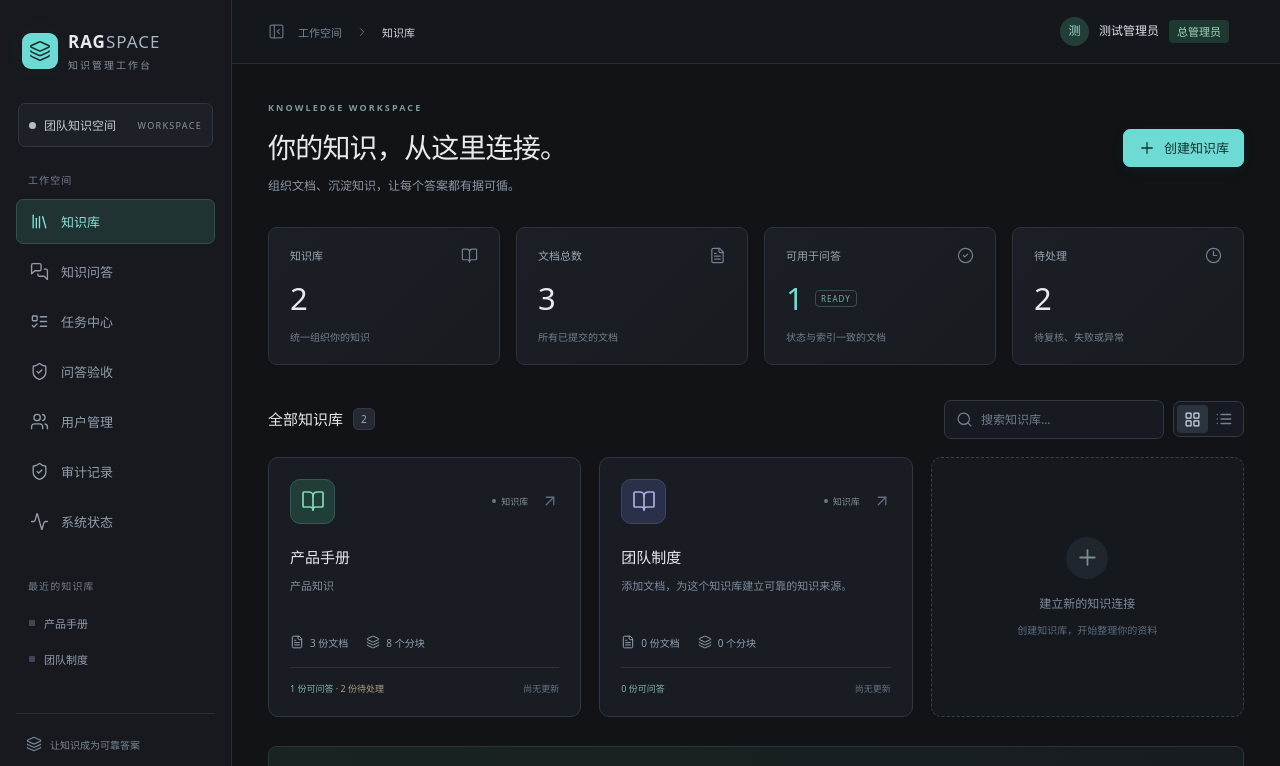
Test: knowledge workspace › shows real counts and administrator navigation after identity initialization
The image size is (1280, 766).
Expected: the elements with class "metric-number" read "2", "3", "1READY", "2", in this order, x1=290 y1=277 x2=307 y2=319; x1=538 y1=277 x2=555 y2=319; x1=786 y1=277 x2=857 y2=319; x1=1034 y1=277 x2=1051 y2=319
Type "制度" into the field named "搜索知识库". click: (1066, 420)
box: x1=981 y1=401 x2=1152 y2=438
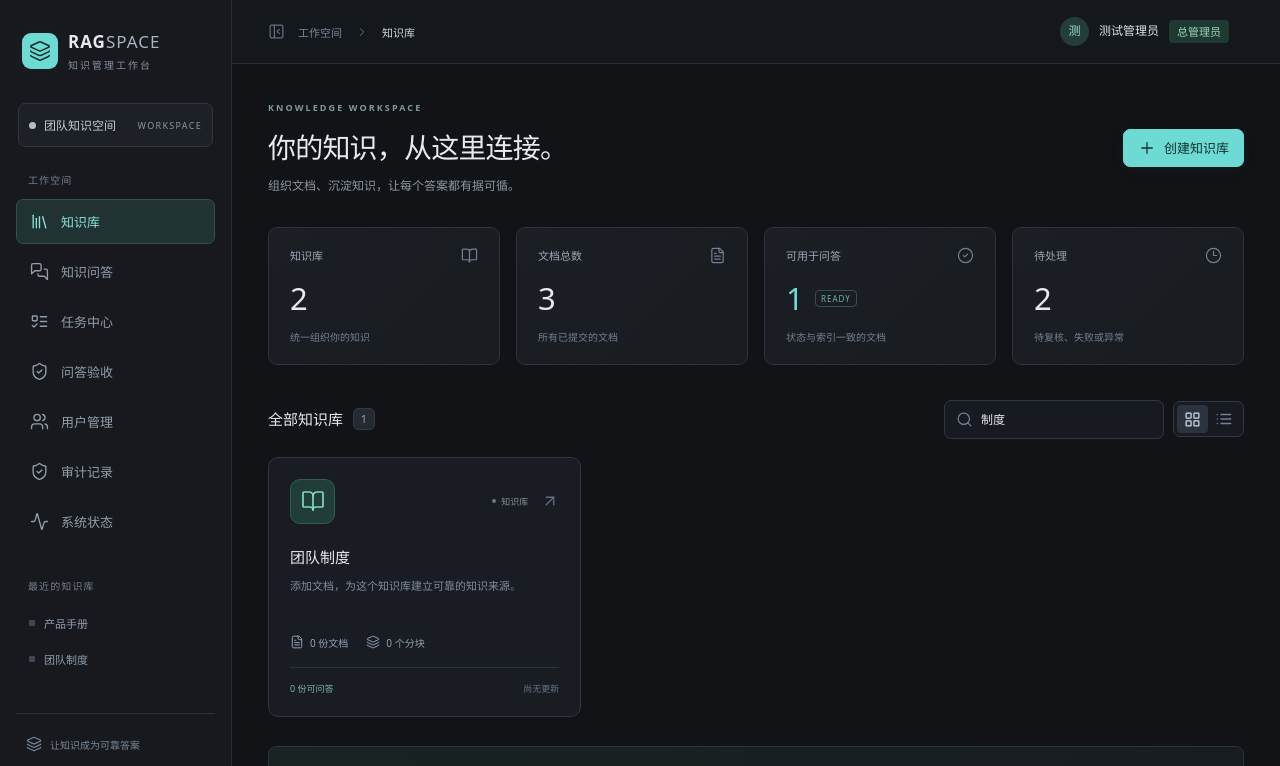
Now the number of links with class "library-card" is 1, box x1=268 y1=457 x2=581 y2=717
